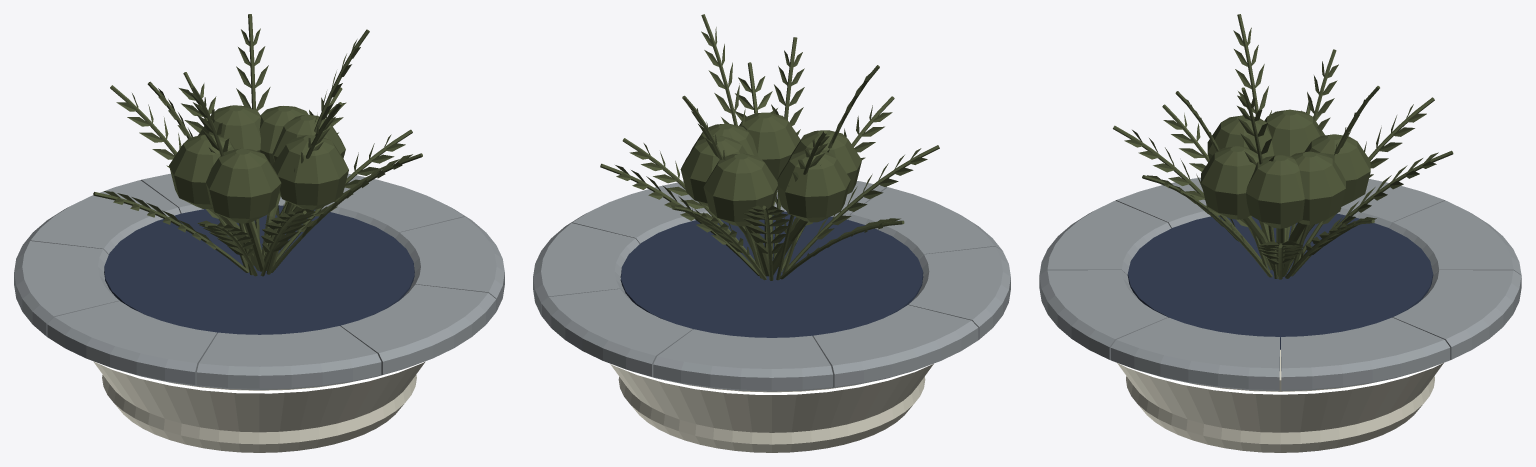
File: bw_planter_bio.glb
The picture shows the model from 3 angles, left to right: view 1: azimuth 30°, elevation 25°; view 2: azimuth 150°, elevation 25°; view 3: azimuth 270°, elevation 25°; orthographic projection. The views are drawn at different scales.
Parts seen in each view (by area): view 1: seat_sector, frond_stem, soil, bowl, underseat; view 2: seat_sector, frond_stem, soil, bowl, underseat; view 3: seat_sector, frond_stem, soil, bowl, underseat.
Part boxes in pixels (x1,y1,x2,y2): seat_sector: [14, 173, 504, 389]; frond_stem: [93, 14, 422, 276]; soil: [104, 205, 414, 334]; bowl: [93, 361, 425, 452]; underseat: [93, 361, 425, 393]; seat_sector: [533, 181, 1010, 391]; frond_stem: [600, 14, 939, 280]; soil: [620, 211, 923, 337]; bowl: [610, 364, 933, 452]; underseat: [610, 363, 932, 394]; seat_sector: [1039, 177, 1521, 391]; frond_stem: [1113, 14, 1453, 279]; soil: [1127, 213, 1433, 349]; bowl: [1117, 349, 1443, 452]; underseat: [1118, 363, 1442, 394].
Bounding box in the file's own units: 2.4 × 1.9 × 2.4.
